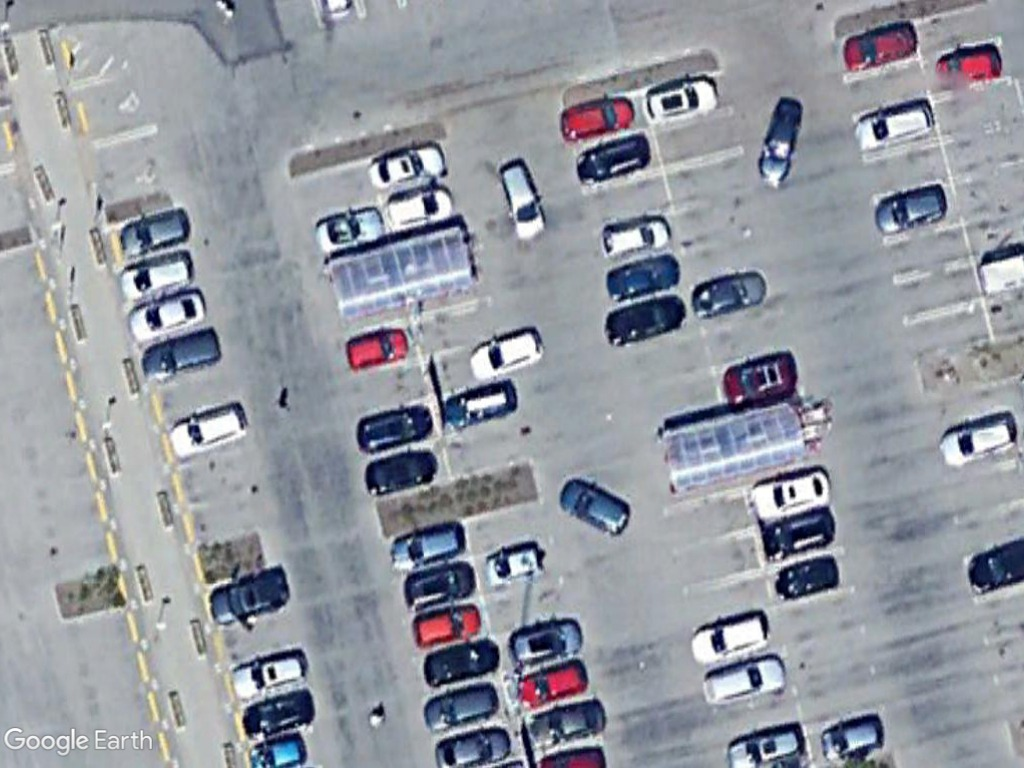car: (164, 398, 252, 464), (138, 324, 224, 385), (698, 654, 789, 711), (126, 285, 212, 345), (687, 607, 773, 667), (206, 567, 290, 627), (752, 96, 806, 189), (747, 465, 832, 524), (571, 131, 655, 190), (364, 139, 454, 194), (603, 291, 688, 348), (935, 412, 1021, 468), (720, 349, 801, 408), (465, 325, 547, 383), (527, 693, 607, 752), (556, 474, 632, 536), (840, 20, 925, 74), (638, 71, 721, 126), (756, 507, 840, 561), (227, 647, 311, 701), (351, 401, 435, 455), (389, 518, 467, 576), (854, 98, 939, 151), (116, 206, 195, 263), (419, 679, 502, 733), (440, 377, 521, 432), (687, 267, 768, 321), (237, 690, 319, 743), (603, 250, 683, 304), (400, 557, 478, 612), (499, 158, 550, 242), (516, 654, 591, 711), (409, 598, 485, 654), (507, 615, 585, 669), (871, 184, 950, 237), (422, 637, 501, 690), (117, 250, 195, 302), (363, 444, 439, 497), (555, 93, 635, 143), (770, 550, 843, 604), (723, 723, 810, 768), (312, 204, 386, 256), (432, 724, 515, 768), (382, 184, 455, 234), (598, 216, 675, 261), (817, 713, 887, 762), (343, 323, 409, 373), (480, 541, 544, 589)
